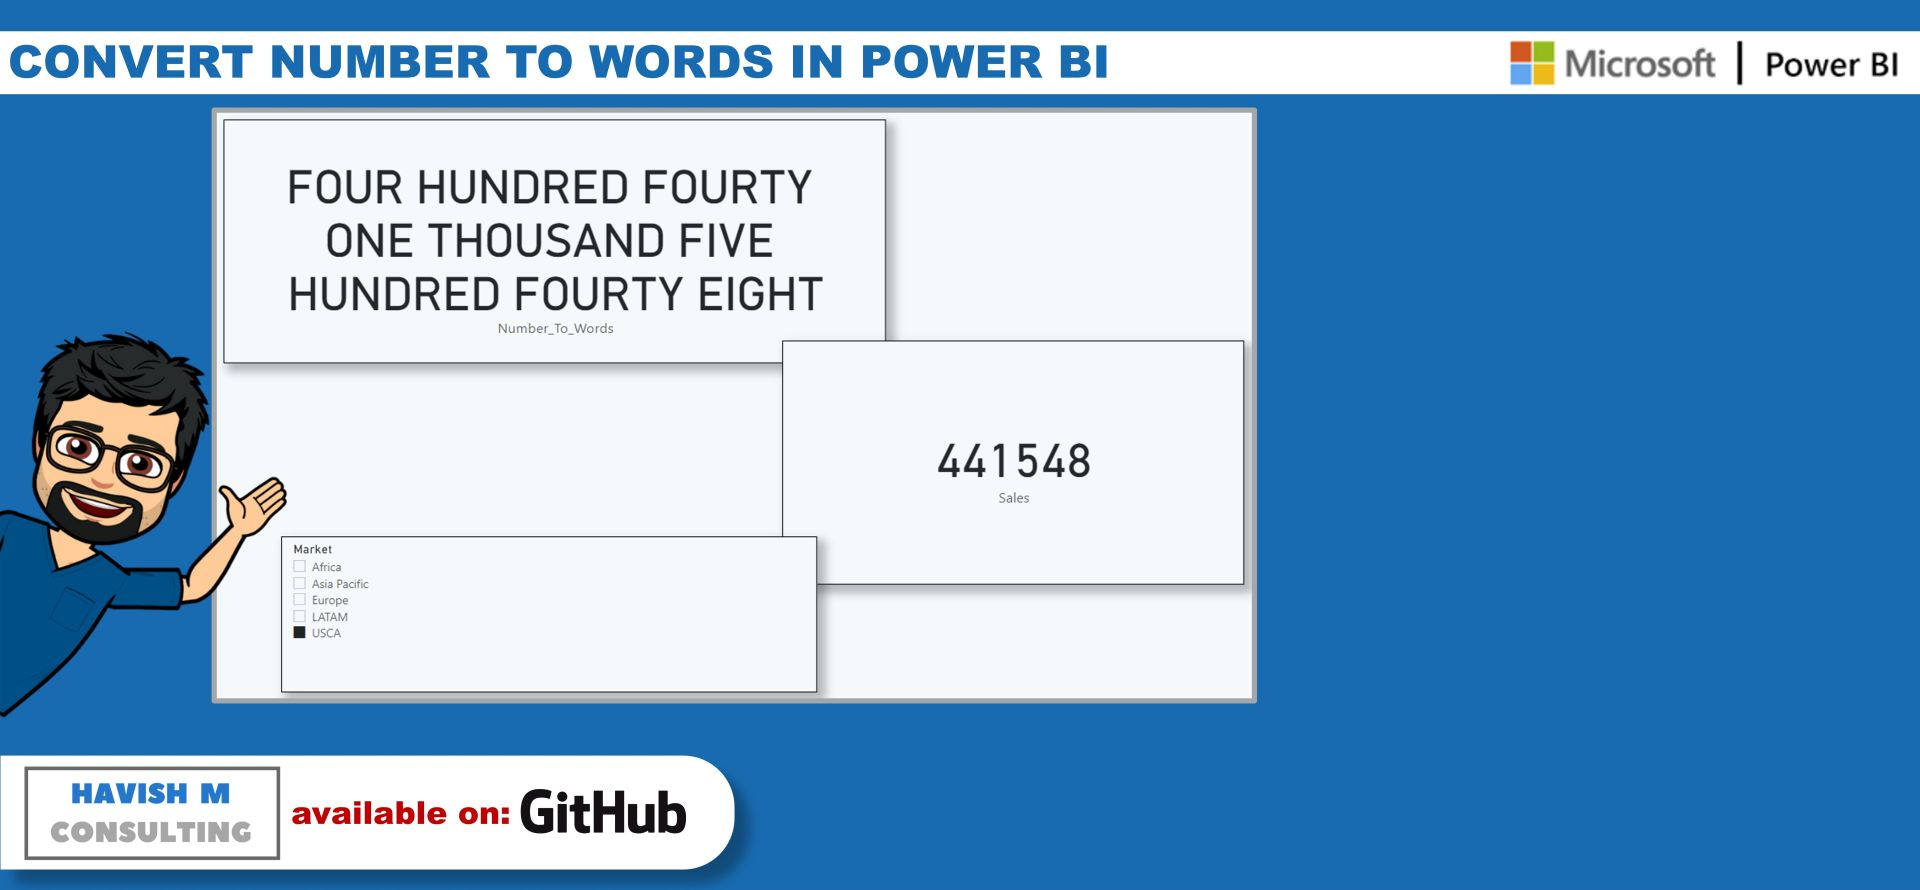

What the dashboard file says about the page in this screenshot:
{"tool":"powerbi","page":{"name":"Page 1","canvas":[1280,720],"ordinal":0},"visuals":[{"type":"card","fields":{"Values":["Table13.Number_To_Words"]},"box":[52.5,13.6,759.6,280.1],"z":0},{"type":"card","fields":{"Values":["Sum(Table13.Sales)"]},"box":[693.5,267.5,530.1,280.1],"z":1},{"type":"slicer","fields":{"Values":["Table13.Market"]},"box":[118.7,492.2,614.7,179],"z":2}]}

Visuals, with their boxes on the page's 1280x720 design canvas (x1, y1, x2, y2). These are canvas units, not pixel positions in the 1920x890 screenshot, which may show the page scaled, cropped or inside an application window:
card - Table13.Number_To_Words: box(52, 14, 812, 294)
card - Sum(Table13.Sales): box(694, 268, 1224, 548)
slicer - Table13.Market: box(119, 492, 733, 671)
